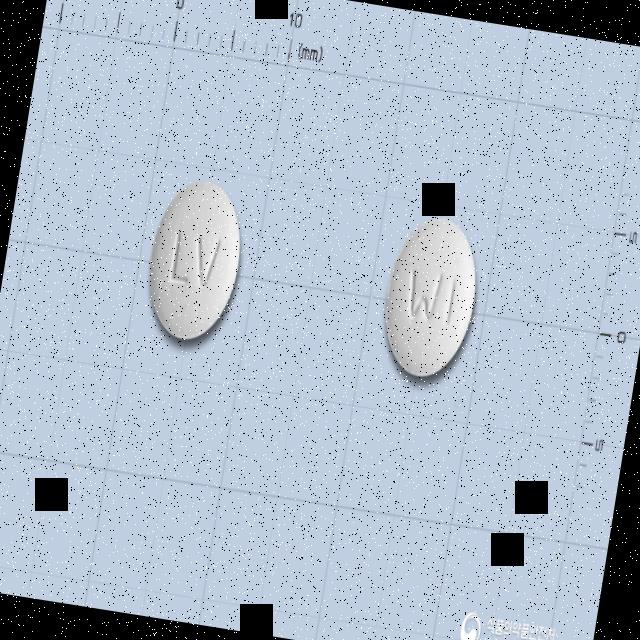Whanin Levofloxacin Tab: (374, 211, 489, 385), (140, 172, 252, 347)
